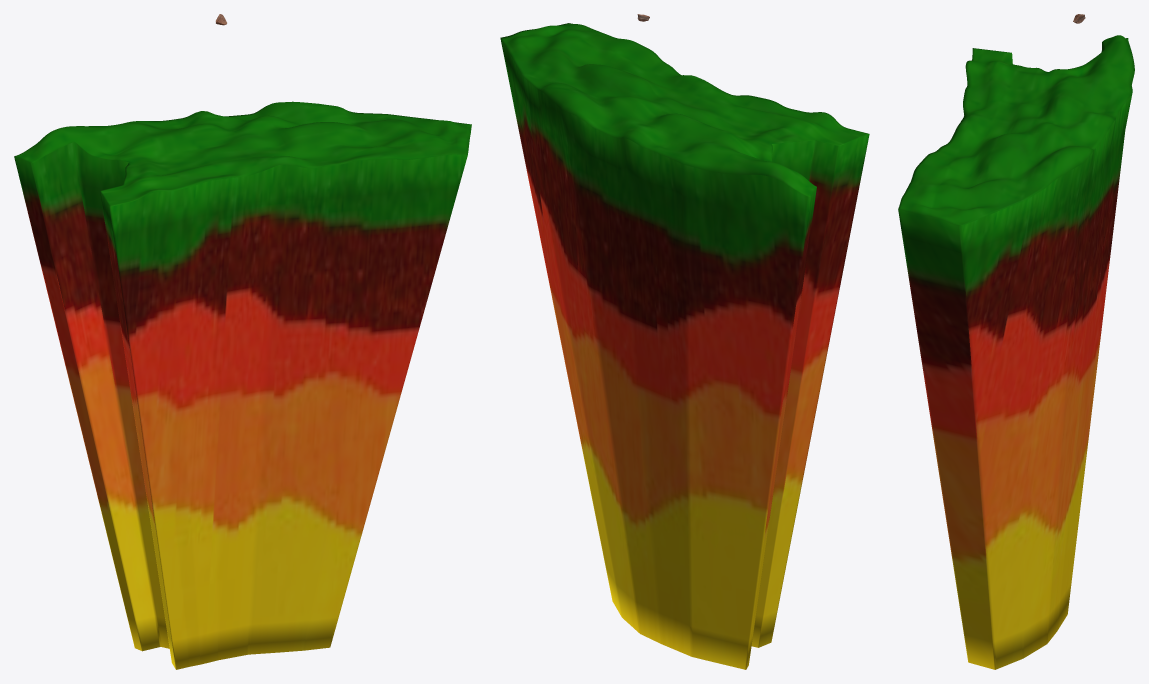
3 renders of one model, left to right at view 1: azimuth 30°, elevation 25°; view 2: azimuth 150°, elevation 25°; view 3: azimuth 270°, elevation 25°, orthographic. The views are drawn at different scales.
Visible parts, largest first — view 1: region; view 2: region; view 3: region.
Boxes of the visible parts, left/top/right/bottom form: region: left=14, top=101, right=471, bottom=669; region: left=500, top=23, right=869, bottom=669; region: left=898, top=35, right=1134, bottom=669.
Size of the model in its own units: 11.91 by 18.3 by 6.33.
2 materials, 2 textured.
